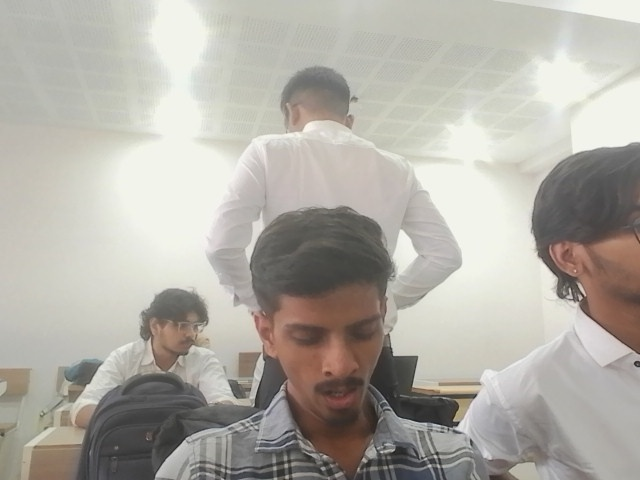light_on: (150, 17, 203, 146), (368, 163, 494, 217), (536, 67, 601, 110)
person: (150, 205, 491, 479), (202, 67, 464, 373), (458, 142, 639, 479), (70, 288, 236, 432)
